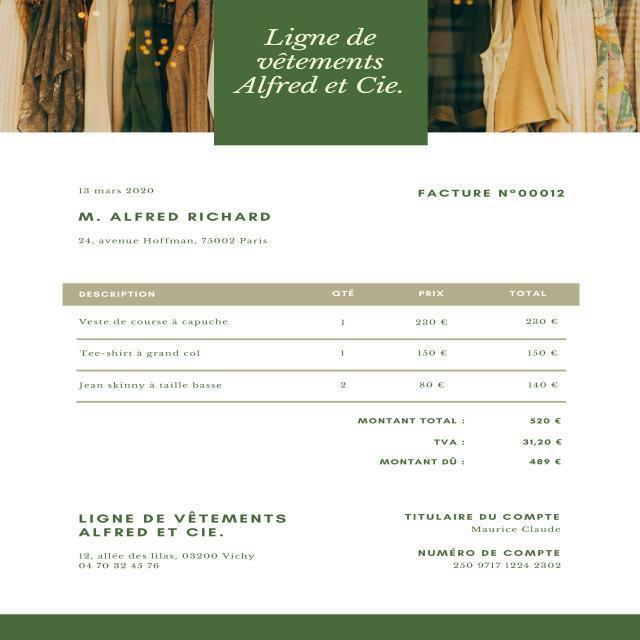paragraph: (54, 178, 280, 254), (352, 411, 611, 477), (65, 510, 295, 582), (398, 508, 586, 585), (236, 22, 408, 106), (418, 182, 566, 214)
table: (55, 286, 598, 404)
